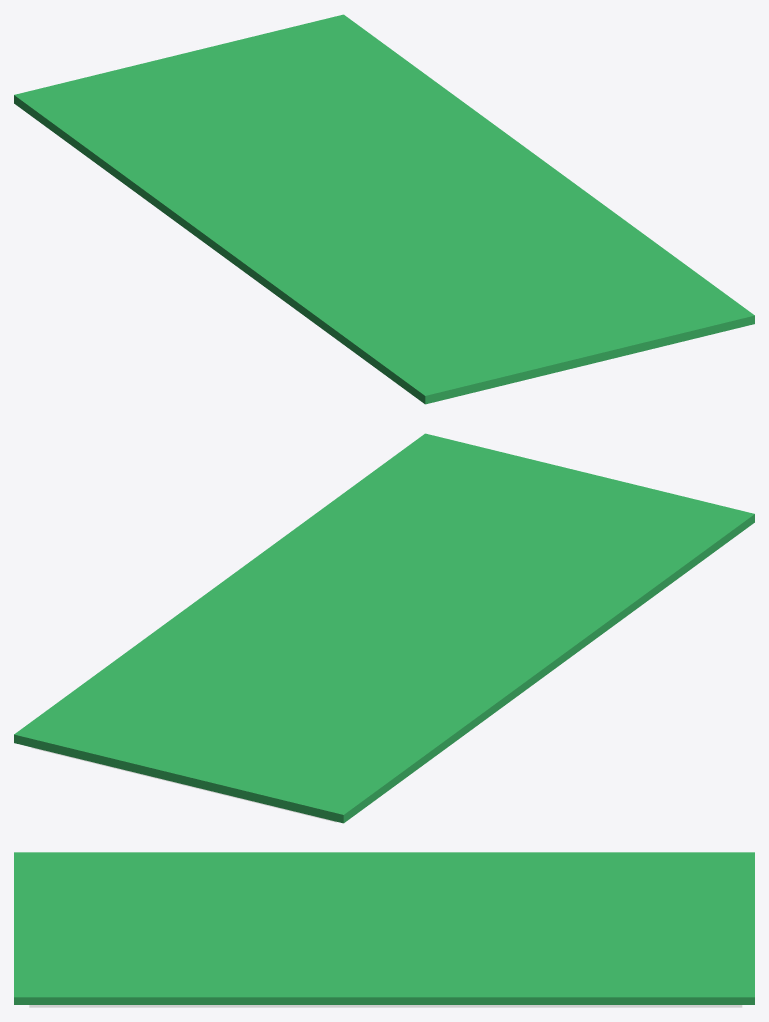
The model's file is bldg-template.glb.
3 renders of one model, top to bottom at view 1: azimuth 30°, elevation 25°; view 2: azimuth 150°, elevation 25°; view 3: azimuth 270°, elevation 25°, orthographic. The views are drawn at different scales.
Visible parts, largest first — view 1: BAY_3E__HIIT; view 2: BAY_3E__HIIT; view 3: BAY_3E__HIIT, floor_plane.
Part boxes in pixels (x1,y1,x2,y2): BAY_3E__HIIT: (14, 14, 754, 404); BAY_3E__HIIT: (14, 433, 754, 823); BAY_3E__HIIT: (14, 852, 754, 1004); floor_plane: (29, 1005, 742, 1007).
Bounding box in the file's own units: 120 × 5.63 × 260.
